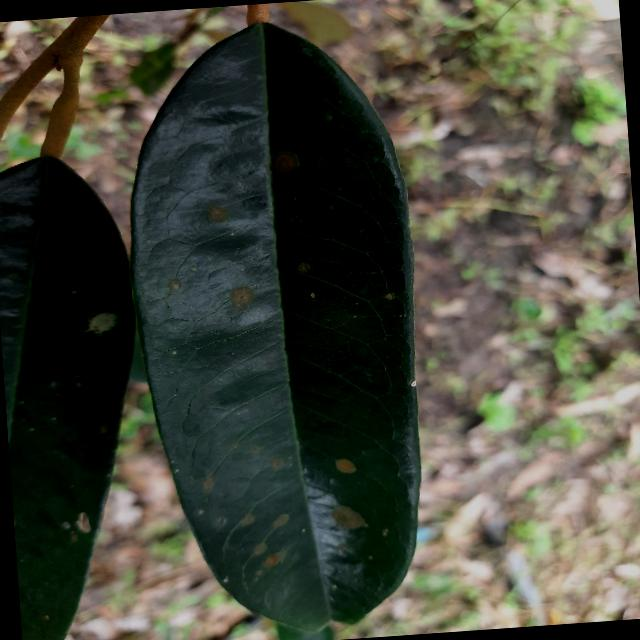Algal Leaf Spot: (108, 10, 446, 639)
